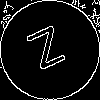Z: (25, 25, 72, 79)
